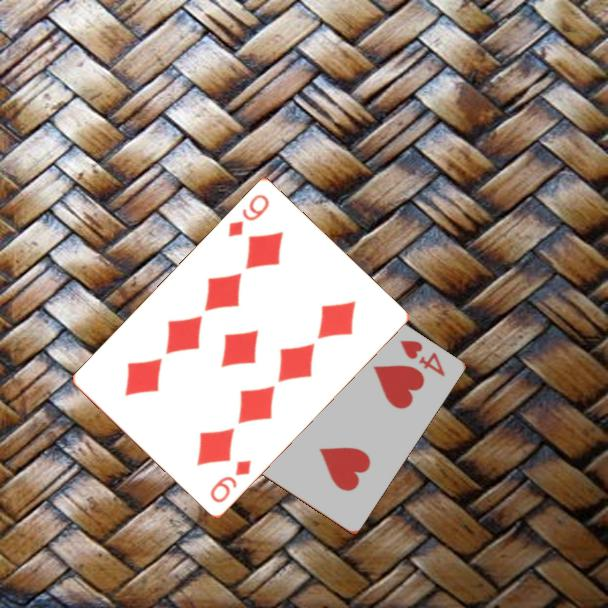d09: (206, 457, 254, 506), (224, 191, 272, 240)
h04: (395, 336, 447, 380)
